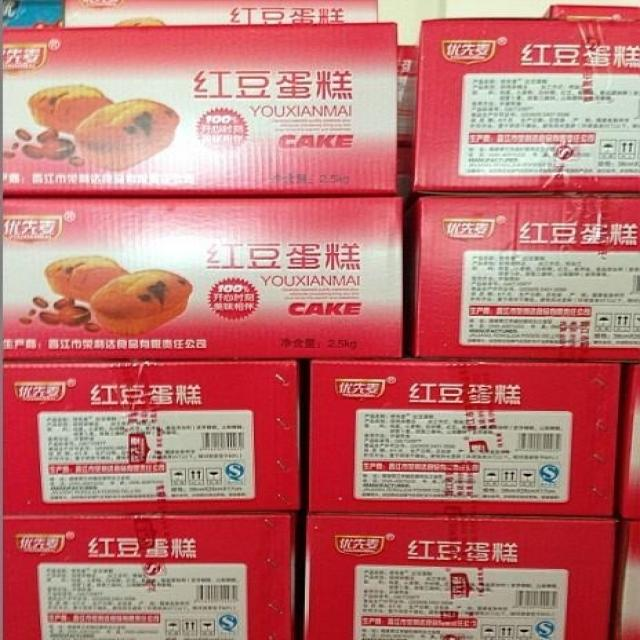box: (0, 24, 399, 197), (0, 196, 404, 363), (309, 360, 624, 518), (2, 363, 302, 520), (407, 192, 639, 363), (302, 516, 621, 639), (412, 21, 639, 192), (0, 512, 299, 639), (0, 0, 378, 30), (613, 363, 639, 518), (612, 521, 639, 638), (396, 46, 417, 194), (537, 6, 639, 22)
